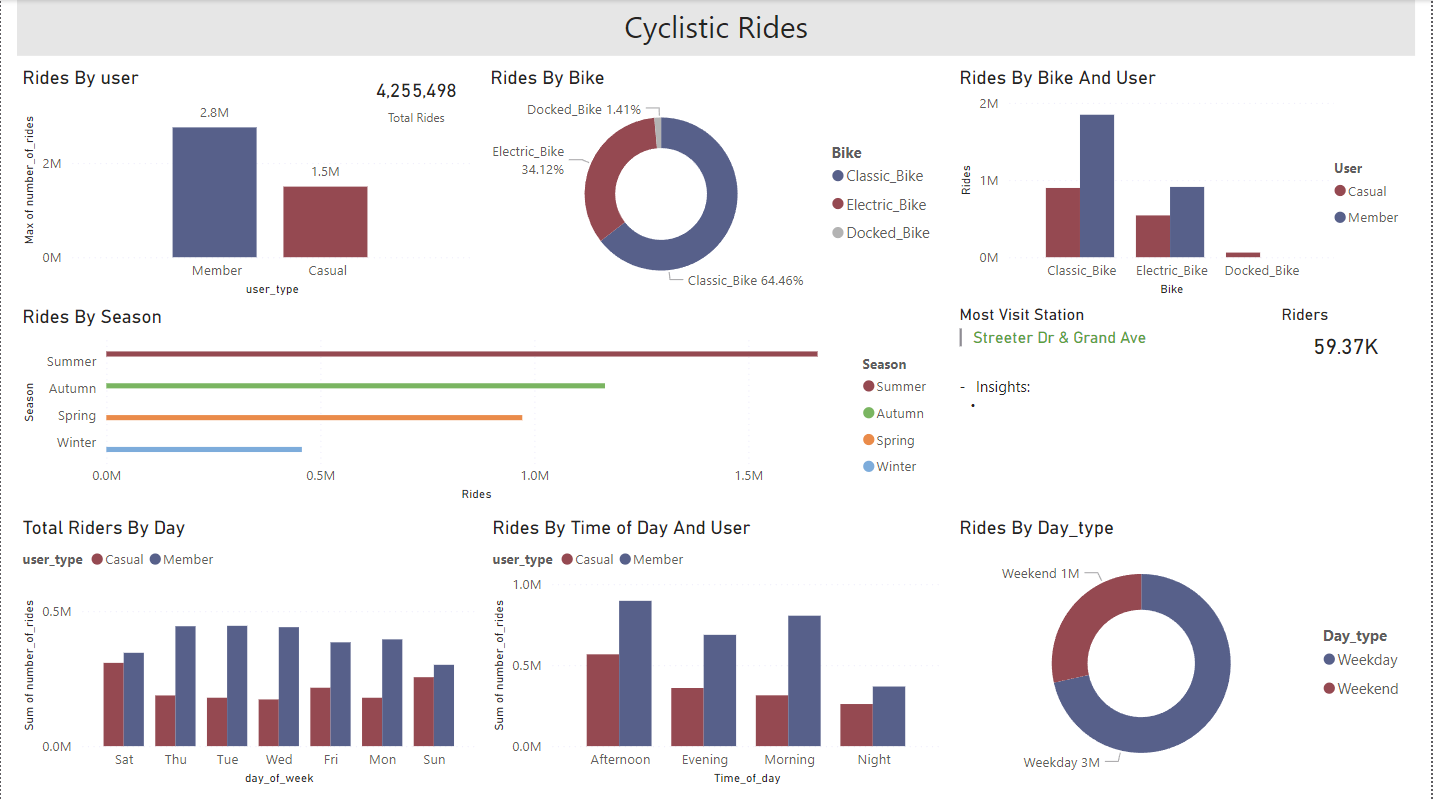

The page's visual inventory and layout, read from the dashboard file:
{"tool":"powerbi","page":{"name":"Cyclistic Rides","canvas":[1280,720],"ordinal":0},"visuals":[{"type":"donutChart","title":"Rides By Bike","fields":{"Category":["Bikes and users.bike_type"],"Y":["Sum(Bikes and users.number_of_rides)"]},"box":[433.2,59.2,412.3,210.2],"z":0},{"type":"clusteredBarChart","title":"Rides By Season ","fields":{"Category":["Rides By Season.Season"],"Y":["Sum(Rides By Season.Number_of_Rides)"],"Series":["Rides By Season.Season"]},"box":[13.9,273,828.2,180],"z":1000},{"type":"clusteredColumnChart","title":"Rides By Bike_type and User_type","fields":{"Category":["Bikes and users.bike_type"],"Y":["Sum(Bikes and users.number_of_rides)"],"Series":["Bikes and users.user_type"]},"box":[853.4,59.1,412.8,286.6],"z":2000},{"type":"columnChart","title":"Rides By user_type","fields":{"Category":["Total of member and casual.user_type"],"Y":["Max(Total of member and casual.number_of_rides)"]},"box":[13.9,59.2,412.3,210.2],"z":3000},{"type":"textbox","box":[13.9,0,1252.1,49.9],"z":4000},{"type":"card","fields":{"Values":["Sum(Total of member and casual.number_of_rides)"]},"box":[321.5,50.1,108.4,59.1],"z":5000},{"type":"multiRowCard","title":"Most Visit Station","fields":{"Values":["Min(Cleaned_data.start_station)"]},"box":[853.4,362.7,281.2,58.2],"z":6000},{"type":"card","title":"Riders","fields":{"Values":["CountNonNull(Cleaned_data.user_type)"]},"box":[1141.8,360,124.5,58.2],"z":7000},{"type":"clusteredColumnChart","title":"Total Riders By Day_of_week","fields":{"Category":["Rides by Time of Day and Week Day.day_of_week"],"Y":["Sum(Rides by Time of Day and Week Day.number_of_rides)"],"Series":["Rides by Time of Day and Week Day.user_type"]},"box":[13.9,462.3,415.8,245.1],"z":8000},{"type":"donutChart","title":"Rides By Day_of_week","fields":{"Category":["Weekday and Weekend Total Rides.Day"],"Y":["Sum(Weekday and Weekend Total Rides.number_of_rides)"]},"box":[853.4,420.9,412.8,286.6],"z":9000},{"type":"clusteredColumnChart","title":"Rides By Time of Day And User ","fields":{"Category":["Rides by Time of Day and Week Day.Time_of_day"],"Series":["Rides by Time of Day and Week Day.user_type"],"Y":["Sum(Rides by Time of Day and Week Day.number_of_rides)"]},"box":[435.6,462.3,412.3,245.1],"z":11000}]}

Visuals, with their boxes in screenshot pixels (x1, y1, x2, y2), scaled from the page's 1280x720 canvas onto the 1433x801 screenshot:
"Rides By Bike" donutChart: (left=485, top=66, right=947, bottom=300)
"Rides By Season " clusteredBarChart: (left=16, top=304, right=943, bottom=504)
"Rides By Bike_type and User_type" clusteredColumnChart: (left=955, top=66, right=1418, bottom=385)
"Rides By user_type" columnChart: (left=16, top=66, right=477, bottom=300)
textbox: (left=16, top=0, right=1417, bottom=56)
card - Sum(Total of member and casual.number_of_rides): (left=360, top=56, right=481, bottom=121)
"Most Visit Station" multiRowCard: (left=955, top=404, right=1270, bottom=468)
"Riders" card: (left=1278, top=400, right=1418, bottom=465)
"Total Riders By Day_of_week" clusteredColumnChart: (left=16, top=514, right=481, bottom=787)
"Rides By Day_of_week" donutChart: (left=955, top=468, right=1418, bottom=787)
"Rides By Time of Day And User " clusteredColumnChart: (left=488, top=514, right=949, bottom=787)
